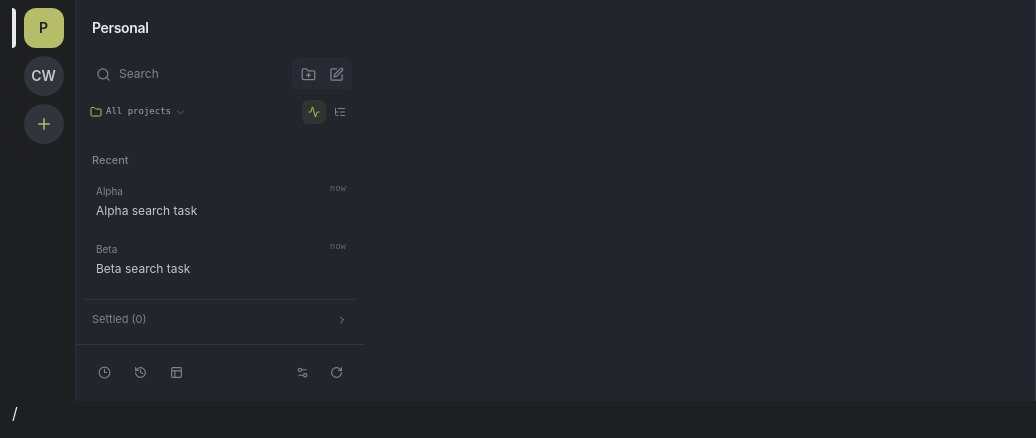
Test: sidebar search and project scope › scopes the list and new thread action to the chosen project
This screenshot has width=1036, height=438.
Click the dropdown named "Filter threads by project".
click(139, 112)  # box [88,100,190,124]
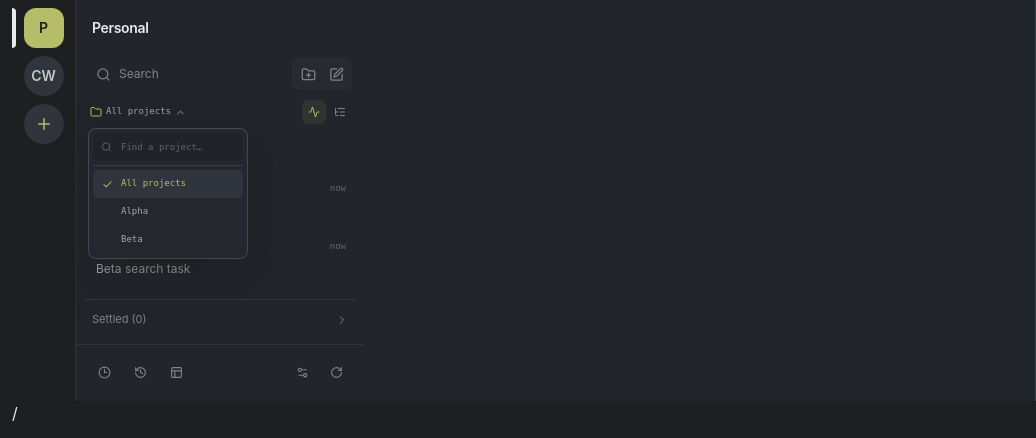
Click the option named "Beta".
click(132, 239)  # box [121,234,143,244]
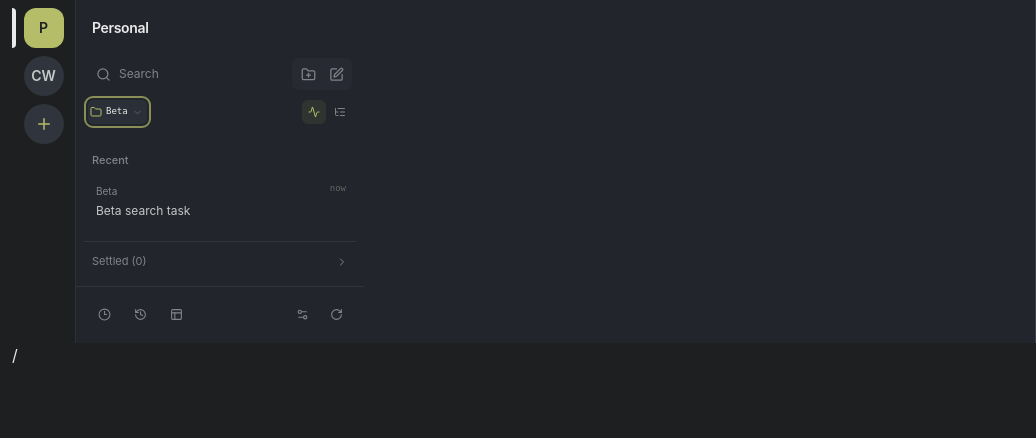
Type "search task" into the search field named "Search threads".
click(200, 74); type("search task")  # box [119,66,280,82]
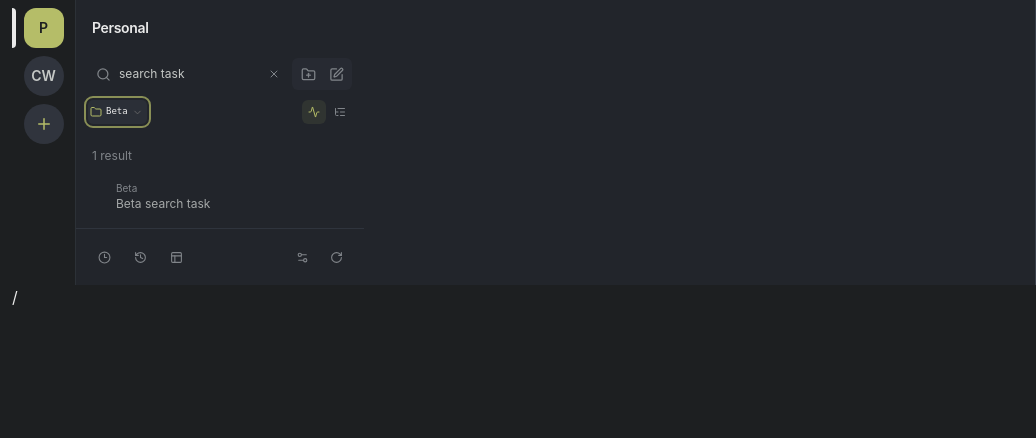
Expected: the button "Alpha search task" is not shown
Expected: the text "Beta search task" is shown, [116,196,210,211]
Click the button named "New thread".
click(336, 74)  # box [322,60,350,88]
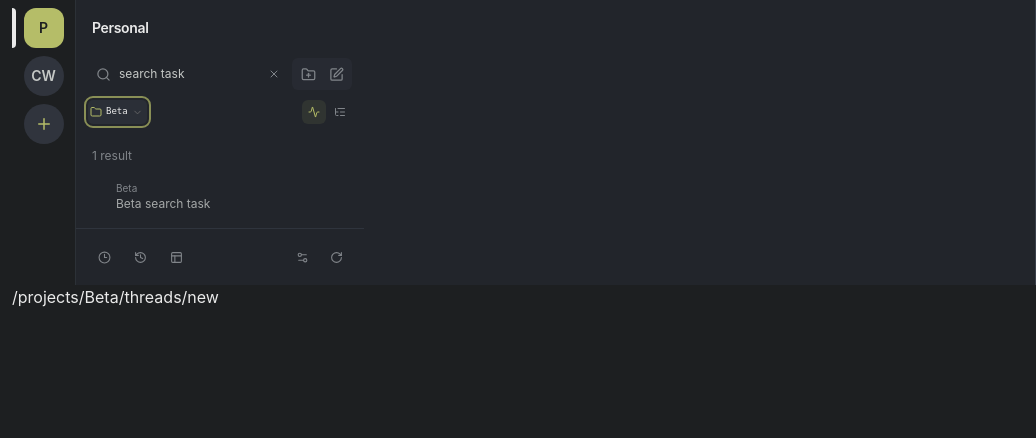
Now the text with test id "location" reads "/projects/Beta/threads/new", box [12,287,219,307]
